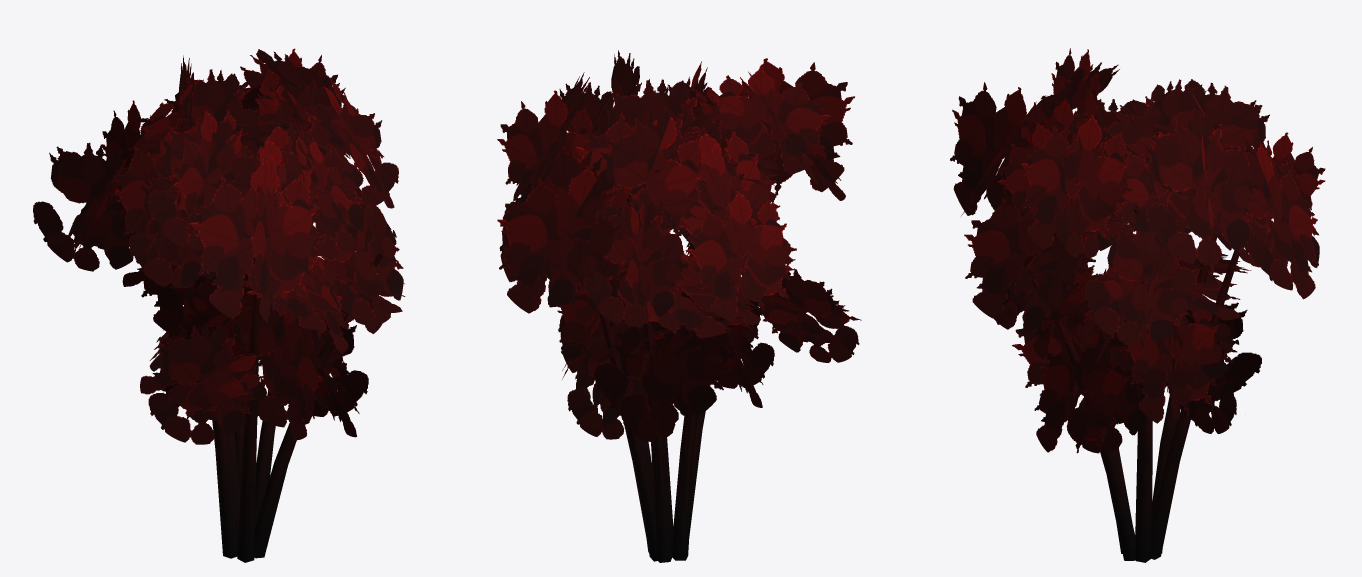
File: bush_jungle_a.glb
3 views of the same model, side by side, from view 1: azimuth 30°, elevation 25°; view 2: azimuth 150°, elevation 25°; view 3: azimuth 270°, elevation 25° (orthographic). The views are drawn at different scales.
Parts seen in each view (by area): view 1: bush_jungle_a; view 2: bush_jungle_a; view 3: bush_jungle_a.
Boxes of the visible parts, box(x1,y1,x2,y2) form: bush_jungle_a: box(33, 48, 405, 562); bush_jungle_a: box(497, 50, 861, 562); bush_jungle_a: box(950, 48, 1325, 562).
Size of the model in its own units: 1.22 by 1.68 by 1.31.
Materials: 1 (1 with a texture image).
